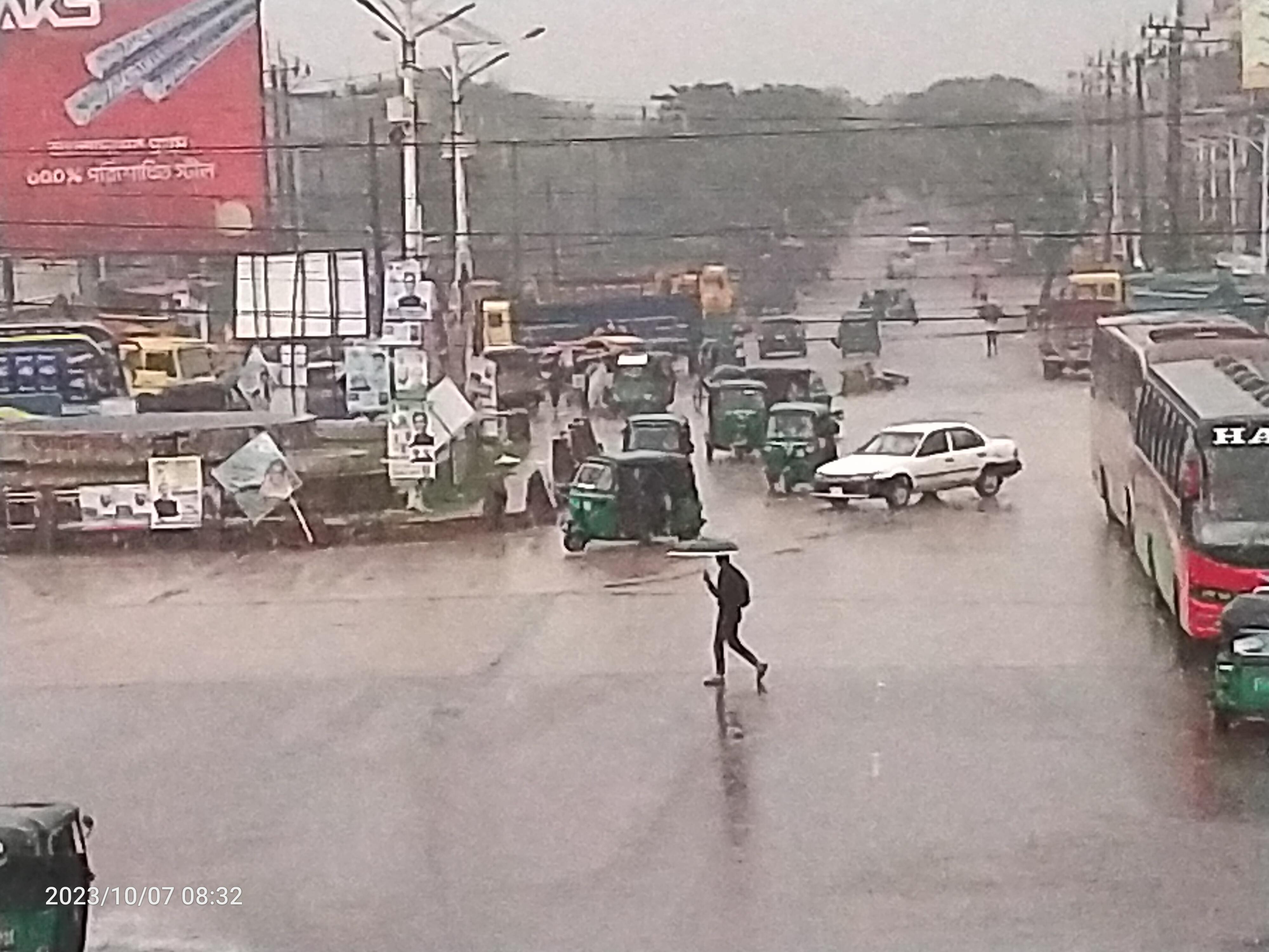Bus: (1122, 350, 1269, 654), (1065, 285, 1189, 547), (0, 282, 153, 441)
Car: (801, 406, 1053, 535), (898, 216, 947, 258)
Truck: (440, 267, 695, 359), (118, 299, 252, 429), (1053, 255, 1260, 315)
